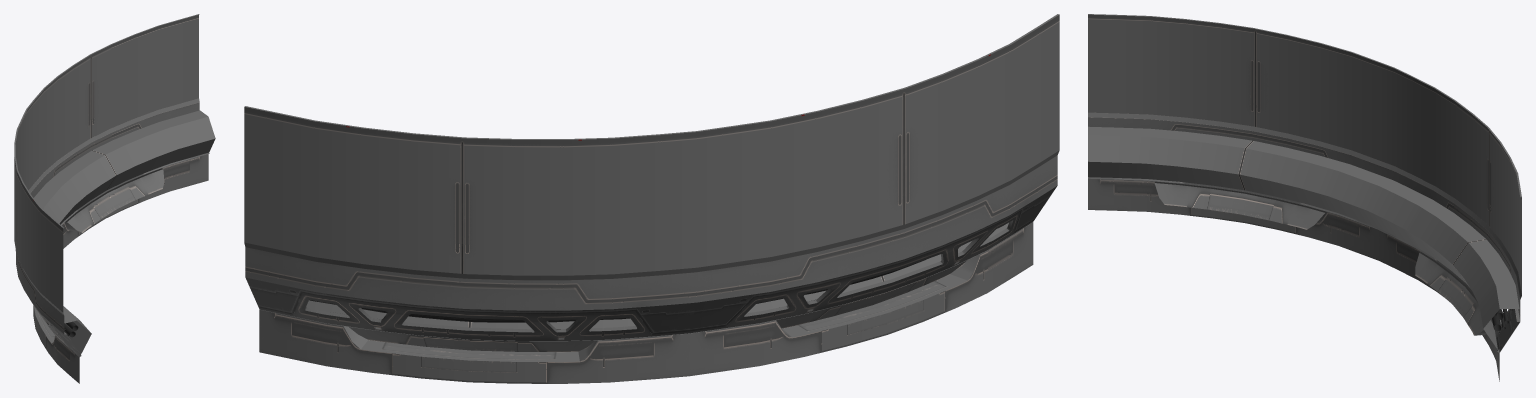
File: top_cables_corner_round_outer.glb
3 renders of one model, left to right at view 1: azimuth 30°, elevation 25°; view 2: azimuth 150°, elevation 25°; view 3: azimuth 270°, elevation 25°, orthographic. The views are drawn at different scales.
Visible parts, largest first — view 1: TopCables_Corner_Round_Outer; view 2: TopCables_Corner_Round_Outer; view 3: TopCables_Corner_Round_Outer.
Part boxes in pixels (<box>): TopCables_Corner_Round_Outer: <box>14,14,215,383</box>; TopCables_Corner_Round_Outer: <box>244,14,1059,383</box>; TopCables_Corner_Round_Outer: <box>1088,14,1521,381</box>.
Size of the model in its own units: 4.22 by 2 by 4.22.
4 materials, 4 textured.
